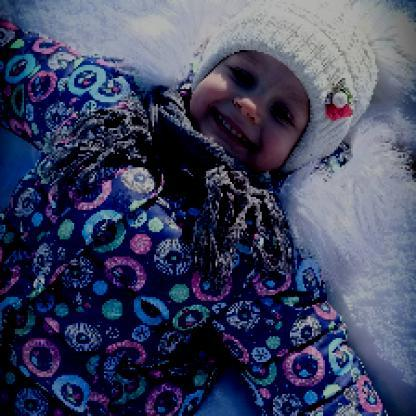child: (1, 1, 391, 415)
